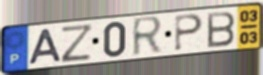0: (102, 20, 128, 59)
A: (27, 27, 63, 66)
B: (205, 10, 237, 49)
P: (173, 13, 205, 53)
R: (131, 14, 165, 60)
Z: (60, 22, 96, 65)
